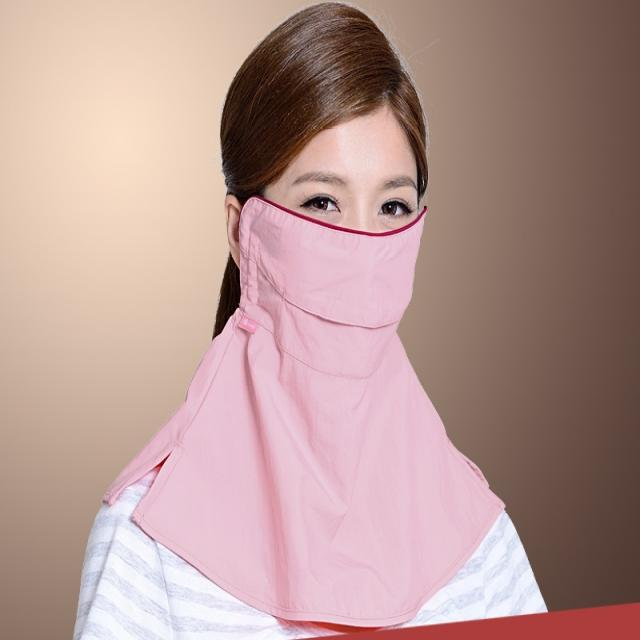mask: (273, 103, 421, 351)
